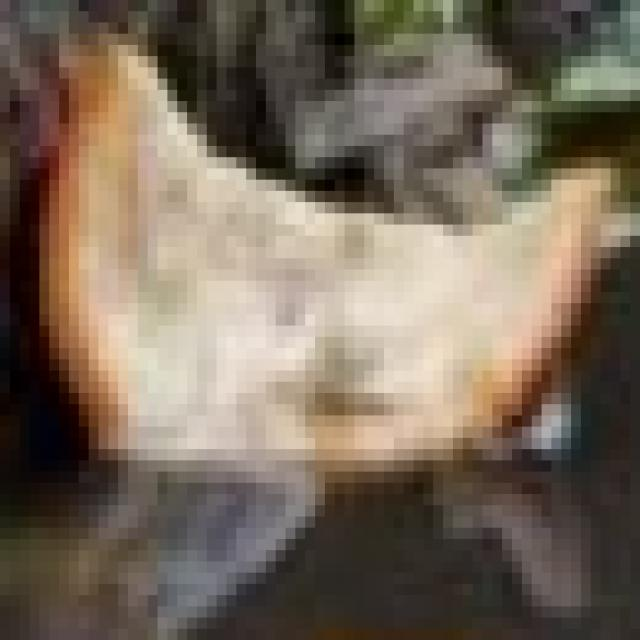food waste: (29, 0, 640, 539)
